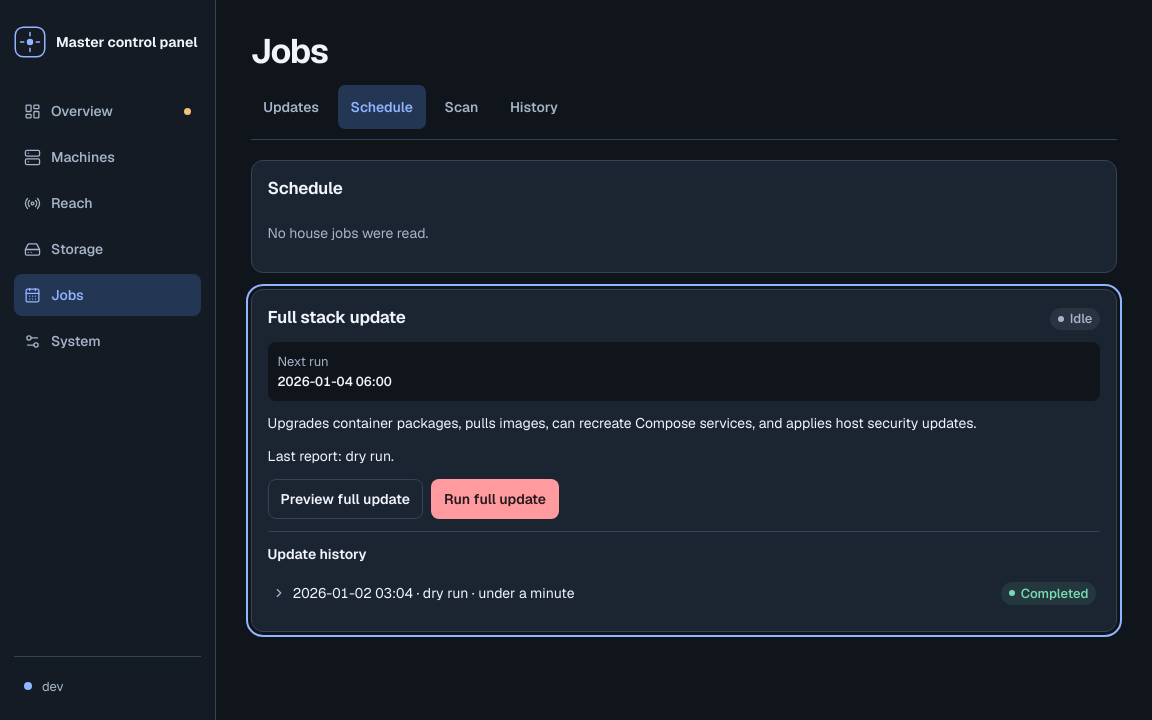
Test: redesigned workflows › preserves the scan, package check, dry run, and update requests
Later steps or results of the test are not shown.
Click the button "Preview full update": (345, 499) top-left (268, 479), bottom-right (423, 519)
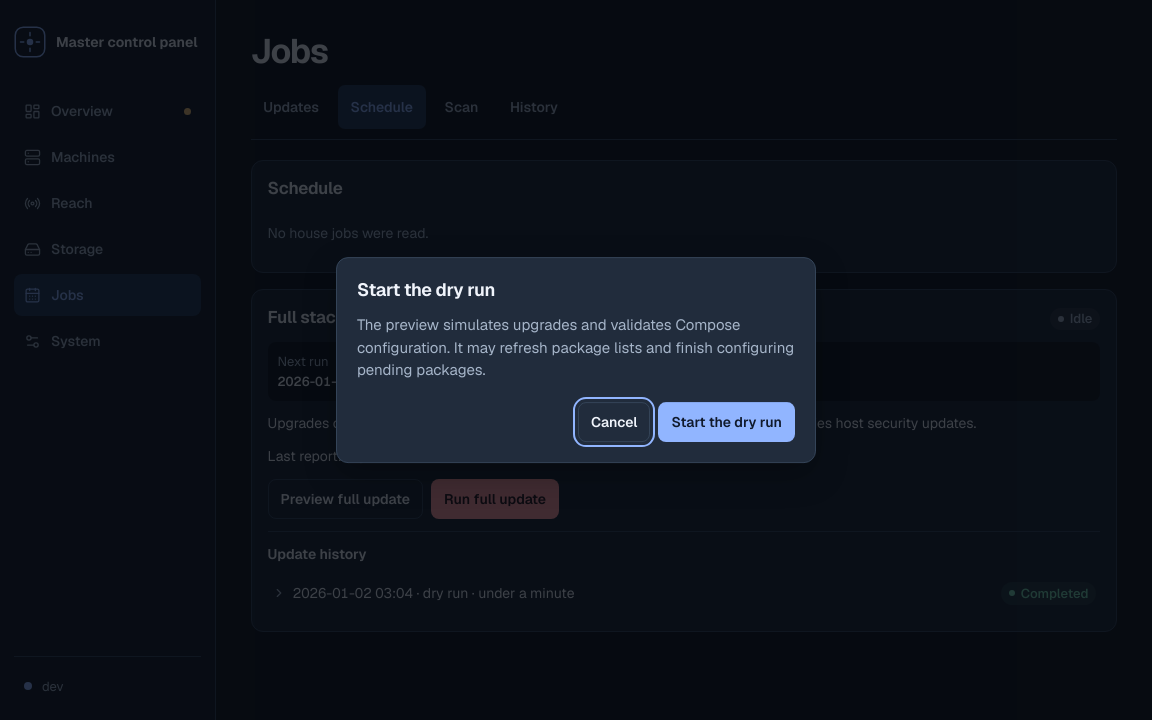
Now the dialog with class "dialog-surface" shows "refresh package lists", box top-left (357, 315), bottom-right (794, 379)
